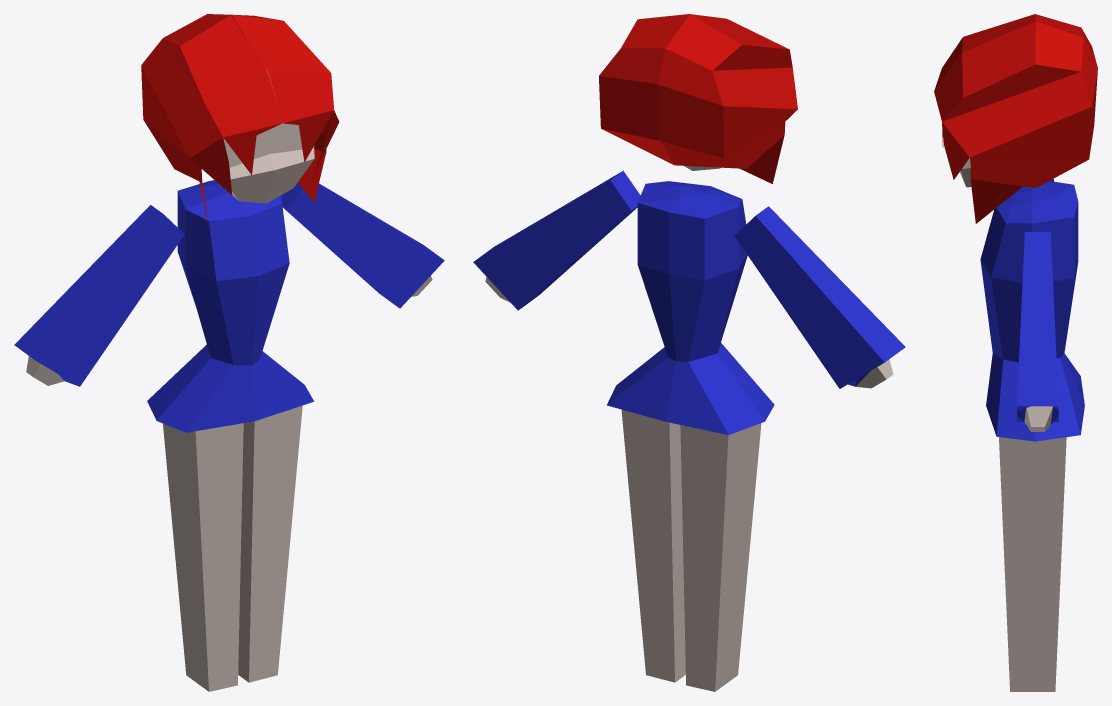
The model's file is char1.obj.
The picture shows the model from 3 angles, left to right: view 1: azimuth 30°, elevation 25°; view 2: azimuth 150°, elevation 25°; view 3: azimuth 270°, elevation 25°; orthographic projection.
Parts seen in each view (by area): view 1: Cube.001, Cube.004, Cube, Cube.002, Cube.003; view 2: Cube.001, Cube.004, Cube, Cube.002; view 3: Cube.004, Cube, Cube.001, Cube.002.
Part boxes in pixels (left/top/right/bottom): Cube.001: left=163, top=405, right=302, bottom=691; Cube.004: left=141, top=14, right=339, bottom=225; Cube: left=147, top=180, right=313, bottom=432; Cube.002: left=14, top=182, right=444, bottom=386; Cube.003: left=223, top=69, right=314, bottom=203; Cube.001: left=621, top=409, right=761, bottom=691; Cube.004: left=599, top=14, right=797, bottom=183; Cube: left=607, top=181, right=774, bottom=434; Cube.002: left=473, top=170, right=905, bottom=388; Cube.004: left=934, top=14, right=1097, bottom=223; Cube: left=980, top=181, right=1084, bottom=441; Cube.001: left=999, top=437, right=1066, bottom=691; Cube.002: left=1017, top=179, right=1058, bottom=431.
Bounding box in the file's own units: 1.67 × 2.57 × 0.5836.
